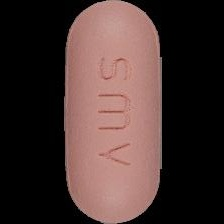63629-3408: (0, 0, 224, 224)
